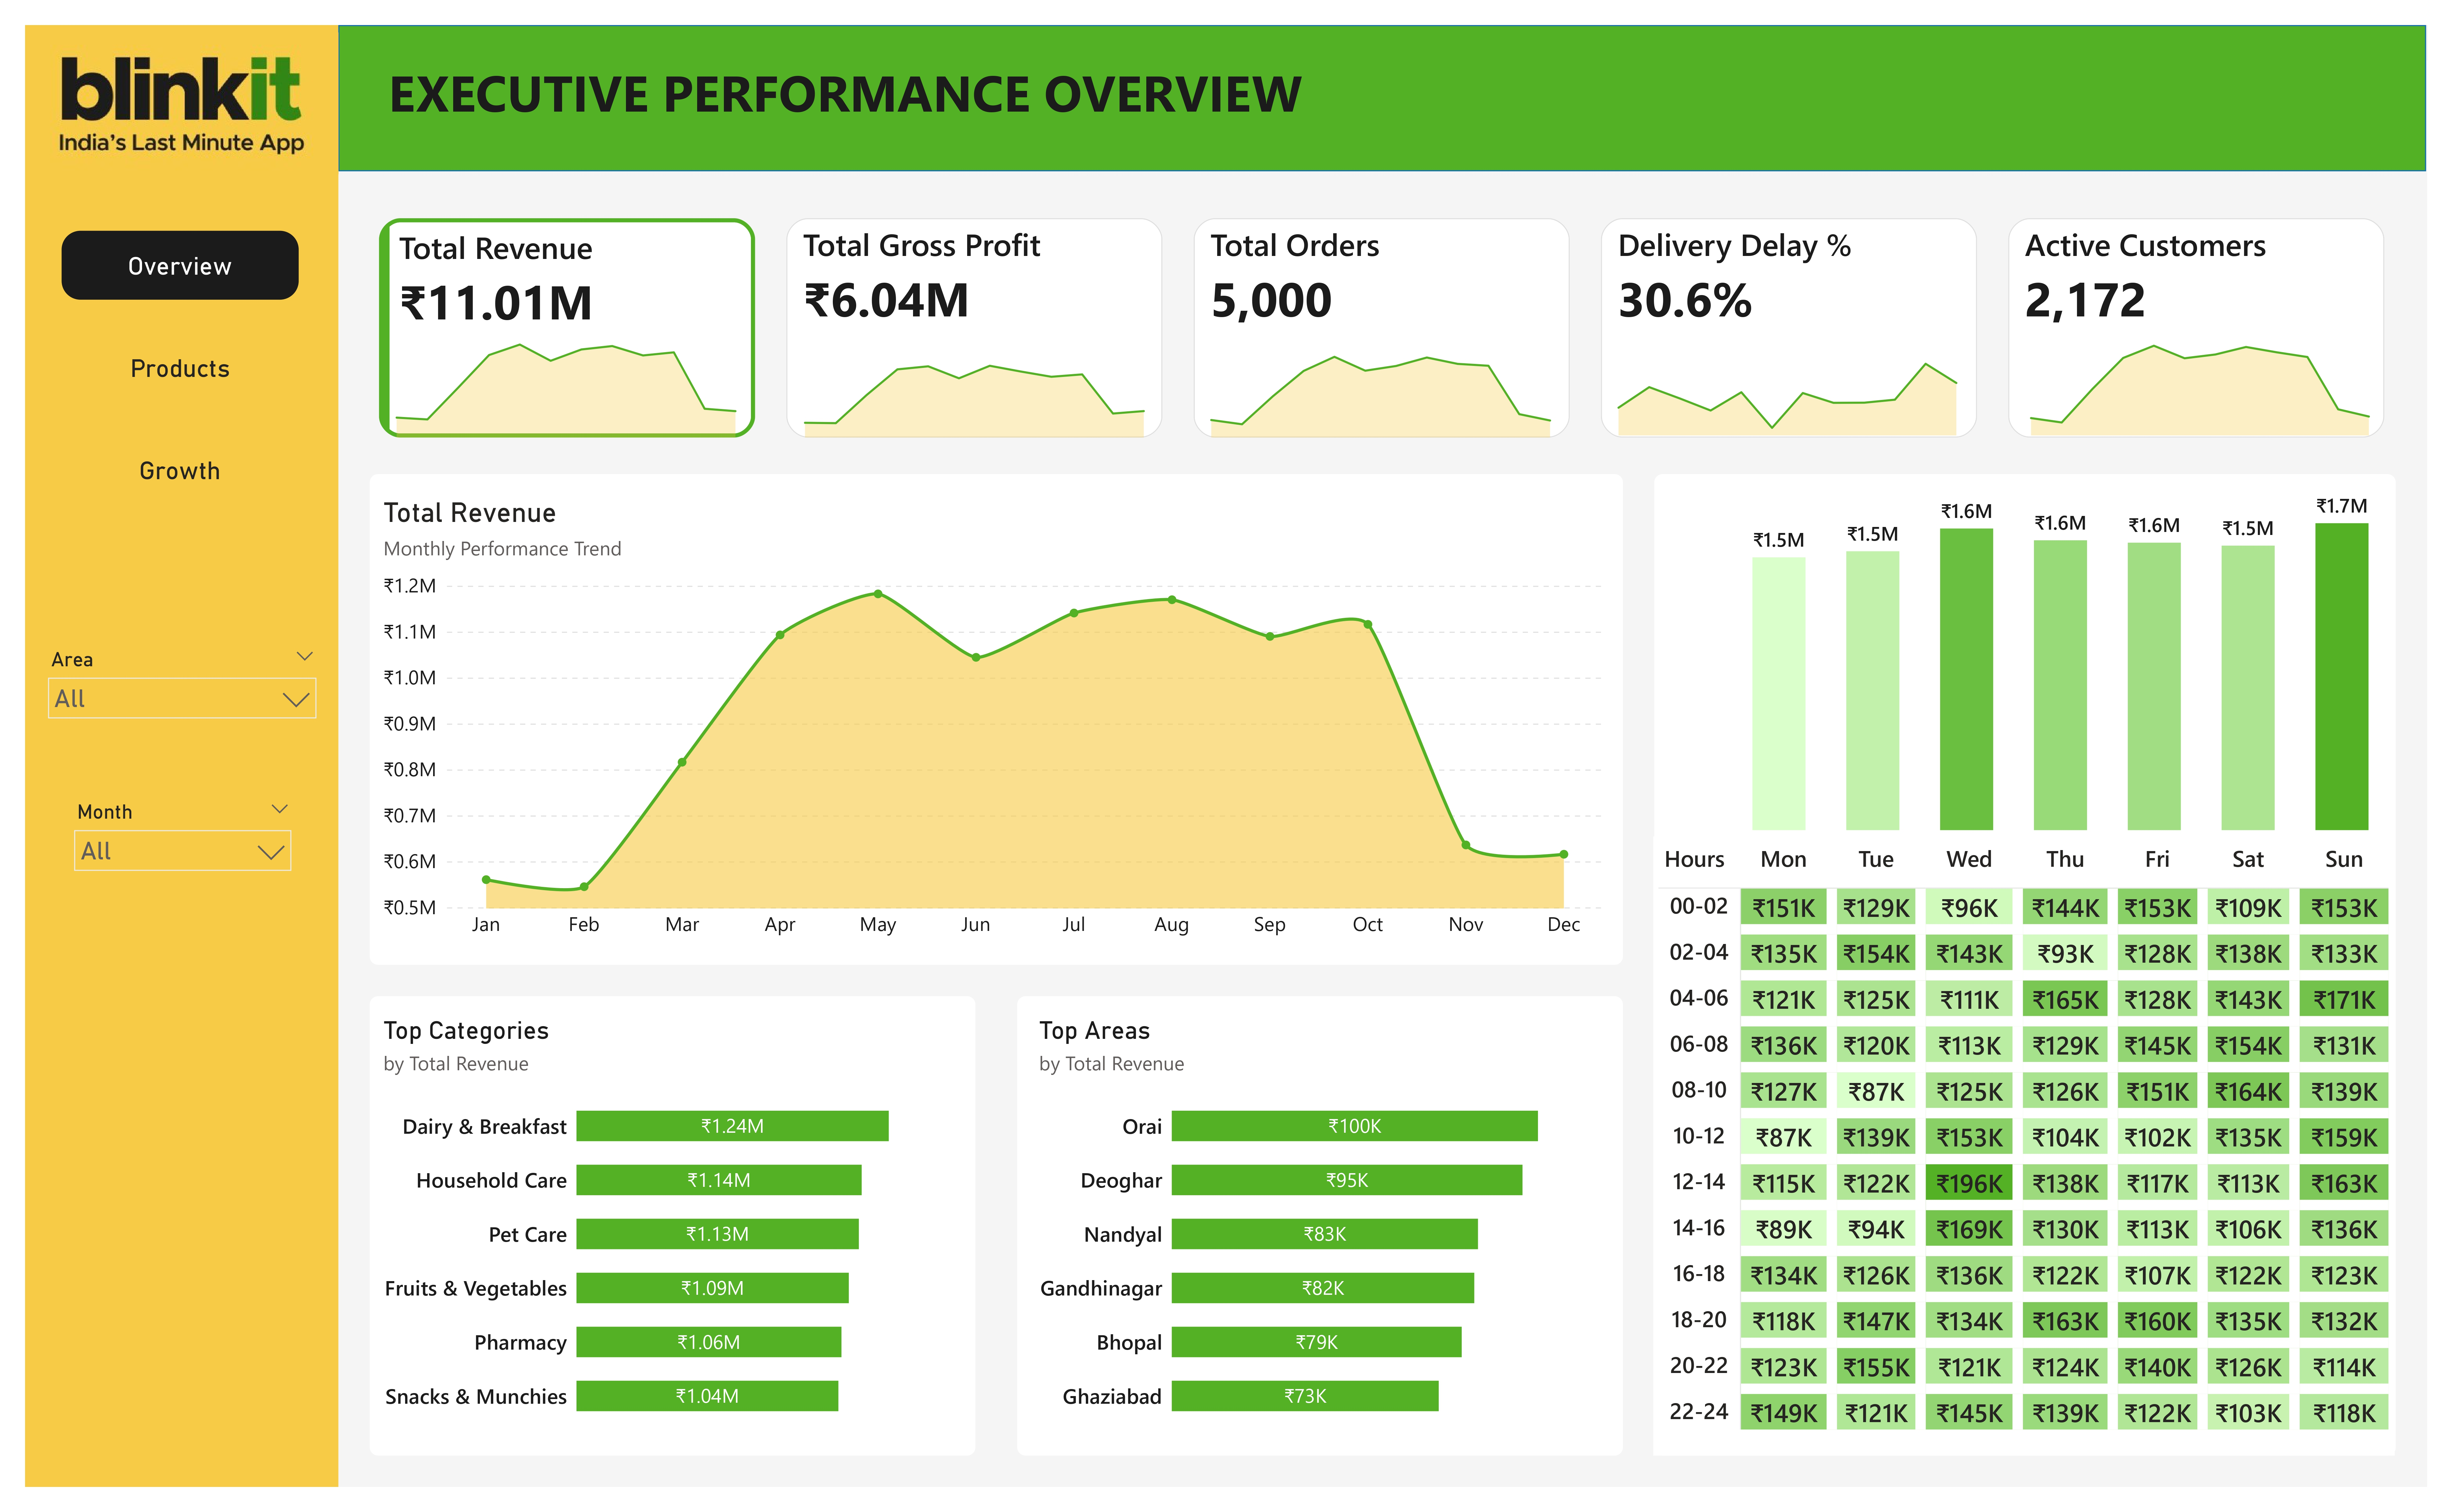

What the dashboard file says about the page in this screenshot:
{"tool":"powerbi","page":{"name":"Overview","canvas":[2300,1400],"ordinal":0},"visuals":[{"type":"shape","box":[0,0,300,1400],"z":0},{"type":"advancedSlicerVisual","fields":{"Values":["Metric Selector.Metric Selector"],"Label":["_Key Measures.Selected Metric Value"]},"box":[339.5,180.3,1922.1,220.1],"z":0,"group":"g2"},{"type":"shape","box":[299.7,0,1999.3,140.5],"z":1000},{"type":"image","box":[0,0,299.7,149.8],"z":2000},{"type":"textbox","box":[323.1,25.8,924.7,96],"z":3000},{"type":"shape","box":[330,430,1200,470],"z":4000},{"type":"shape","box":[330,930,580,440],"z":5000},{"type":"shape","box":[950,930,580,440],"z":6000},{"type":"shape","box":[1560,430,710,940],"z":7000},{"type":"areaChart","fields":{"Y":["_Key Measures.Total Revenue"],"Category":["Date Table.Month Name"]},"box":[323.1,430.8,1208,468.2],"z":8000},{"type":"clusteredBarChart","title":"Top Categories","fields":{"Y":["_Key Measures.Total Revenue"],"Category":["Dim_Products.category"]},"box":[323.1,929.4,587.6,440.1],"z":9000},{"type":"clusteredBarChart","title":"Top Areas","fields":{"Y":["_Key Measures.Total Revenue"],"Category":["Dim_Customers.area"]},"box":[950.5,929.4,580.6,440.1],"z":10000},{"type":"pivotTable","fields":{"Values":["_Key Measures.Total Revenue"],"Rows":["Fact_Orders.Time Interval"],"Columns":["Date Table.Short Day"]},"box":[1559.2,777.3,709.4,592.3],"z":11000},{"type":"columnChart","fields":{"Y":["_Key Measures.Total Revenue"],"Category":["Date Table.Short Day"]},"box":[1638.8,430.8,622.7,346.5],"z":12000},{"type":"group","id":"g1","title":"Group 1","box":[339.5,180.3,1922.3,220.1],"z":13000},{"type":"pageNavigator","box":[35.1,196.7,227.1,264.5],"z":14000},{"type":"lineChart","fields":{"Y":["_Key Measures.Total Gross Profit"],"Category":["Date Table.Month Name"]},"box":[730.5,290.3,358.2,110],"z":15000,"group":"g2"},{"type":"slicer","fields":{"Values":["Date Table.Month Year"]},"box":[37.1,737,227.5,79.1],"z":15000},{"type":"lineChart","fields":{"Y":["_Key Measures.Total Orders"],"Category":["Date Table.Month Name"]},"box":[1119.1,290.3,358.2,110],"z":16000,"group":"g2"},{"type":"slicer","fields":{"Values":["Dim_Customers.area"]},"box":[12.4,591.1,277,108.8],"z":16000},{"type":"lineChart","fields":{"Y":["_Key Measures.Delivery Delay %"],"Category":["Date Table.Month Name"]},"box":[1509.6,288.2,357,109.6],"z":17000,"group":"g2"},{"type":"lineChart","fields":{"Y":["_Key Measures.Active Customers"],"Category":["Date Table.Month Name"]},"box":[1904.8,288.2,357,109.6],"z":18000,"group":"g2"},{"type":"lineChart","fields":{"Y":["_Key Measures.Total Revenue"],"Category":["Date Table.Month Name"]},"box":[339.5,290.3,358.2,110],"z":18500,"group":"g2"},{"type":"group","id":"g2","title":"Group 2","box":[339.5,180.3,1922.3,220.1],"z":18502,"group":"g1"}]}

Visuals, with their boxes on the page's 2300x1400 design canvas (x1, y1, x2, y2). These are canvas units, not pixel positions in the 2452x1512 screenshot, which may show the page scaled, cropped or inside an application window:
shape: BBox(0, 0, 300, 1400)
advancedSlicerVisual - Metric Selector.Metric Selector x _Key Measures.Selected Metric Value: BBox(340, 180, 2262, 400)
shape: BBox(300, 0, 2299, 140)
image: BBox(0, 0, 300, 150)
textbox: BBox(323, 26, 1248, 122)
shape: BBox(330, 430, 1530, 900)
shape: BBox(330, 930, 910, 1370)
shape: BBox(950, 930, 1530, 1370)
shape: BBox(1560, 430, 2270, 1370)
areaChart - _Key Measures.Total Revenue x Date Table.Month Name: BBox(323, 431, 1531, 899)
"Top Categories" clusteredBarChart: BBox(323, 929, 911, 1370)
"Top Areas" clusteredBarChart: BBox(950, 929, 1531, 1370)
pivotTable - _Key Measures.Total Revenue x Fact_Orders.Time Interval: BBox(1559, 777, 2269, 1370)
columnChart - _Key Measures.Total Revenue x Date Table.Short Day: BBox(1639, 431, 2262, 777)
"Group 1" group: BBox(340, 180, 2262, 400)
pageNavigator: BBox(35, 197, 262, 461)
lineChart - _Key Measures.Total Gross Profit x Date Table.Month Name: BBox(730, 290, 1089, 400)
slicer - Date Table.Month Year: BBox(37, 737, 265, 816)
lineChart - _Key Measures.Total Orders x Date Table.Month Name: BBox(1119, 290, 1477, 400)
slicer - Dim_Customers.area: BBox(12, 591, 289, 700)
lineChart - _Key Measures.Delivery Delay % x Date Table.Month Name: BBox(1510, 288, 1867, 398)
lineChart - _Key Measures.Active Customers x Date Table.Month Name: BBox(1905, 288, 2262, 398)
lineChart - _Key Measures.Total Revenue x Date Table.Month Name: BBox(340, 290, 698, 400)
"Group 2" group: BBox(340, 180, 2262, 400)
